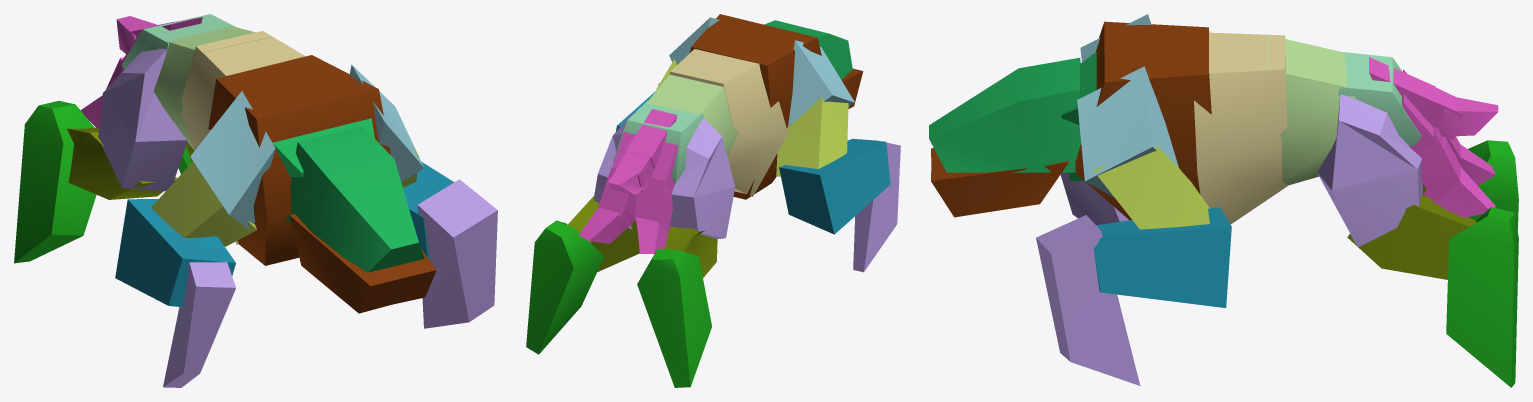
File: skulk_physics_damage.dae
The picture shows the model from 3 angles, left to right: view 1: azimuth 30°, elevation 25°; view 2: azimuth 150°, elevation 25°; view 3: azimuth 270°, elevation 25°; orthographic projection. The views are drawn at different scales.
Parts seen in each view (by area): view 1: Collision_Chest_PIVOT, Collision_Head_PIVOT, Collision_LHand01_PIVOT, Collision_RFoot_PIVOT, Collision_RThigh01_PIVOT, Collision_Spine_PIVOT (×2), Collision_RForearm_PIVOT, Collision_RClavicle_PIVOT, Collision_RHand_PIVOT, Collision_RMandible_PIVOT, Collision_RUpArm_PIVOT, Collision_RCalf_PIVOT (+6 smaller); view 2: Collision_Spine_PIVOT (×2), Collision_RFoot_PIVOT, Collision_RForearm_PIVOT, Collision_LFoot_PIVOT, Collision_Chest_PIVOT, Collision_RThigh01_PIVOT, Collision_RUpArm_PIVOT, Collision_RHand_PIVOT, Collision_RClavicle_PIVOT, Collision_Pelvis_PIVOT, Collision_LCalf_PIVOT, Collision_RTentMid_PIVOT (+13 smaller); view 3: Collision_Spine_PIVOT (×2), Collision_Head_PIVOT, Collision_Chest_PIVOT, Collision_LForearm01_PIVOT, Collision_LFoot_PIVOT, Collision_LThigh_PIVOT, Collision_LHand01_PIVOT, Collision_LClavicle01_PIVOT, Collision_LUpArm01_PIVOT, Collision_LCalf_PIVOT, Collision_LMandible_PIVOT, Collision_Pelvis_PIVOT (+10 smaller).
Part boxes in pixels (<box>): Collision_Chest_PIVOT: <box>208,55,390,265</box>; Collision_Head_PIVOT: <box>286,126,424,272</box>; Collision_LHand01_PIVOT: <box>417,179,497,328</box>; Collision_RFoot_PIVOT: <box>14,100,96,263</box>; Collision_RThigh01_PIVOT: <box>98,48,187,191</box>; Collision_Spine_PIVOT (×2): <box>154,26,305,244</box>; Collision_RForearm_PIVOT: <box>115,199,235,307</box>; Collision_RClavicle_PIVOT: <box>190,91,275,229</box>; Collision_RHand_PIVOT: <box>163,261,235,387</box>; Collision_RMandible_PIVOT: <box>289,214,403,313</box>; Collision_RUpArm_PIVOT: <box>151,161,256,246</box>; Collision_RCalf_PIVOT: <box>67,127,176,199</box>; Collision_Spine_PIVOT (×2): <box>646,49,788,196</box>; Collision_RFoot_PIVOT: <box>637,248,711,387</box>; Collision_RForearm_PIVOT: <box>779,138,890,234</box>; Collision_LFoot_PIVOT: <box>526,220,604,354</box>; Collision_Chest_PIVOT: <box>690,14,821,199</box>; Collision_RThigh01_PIVOT: <box>670,118,735,238</box>; Collision_RUpArm_PIVOT: <box>776,96,848,176</box>; Collision_RHand_PIVOT: <box>853,139,900,272</box>; Collision_RClavicle_PIVOT: <box>788,40,854,126</box>; Collision_Pelvis_PIVOT: <box>613,100,704,183</box>; Collision_LCalf_PIVOT: <box>567,196,639,271</box>; Collision_RTentMid_PIVOT: <box>634,177,673,233</box>; Collision_Spine_PIVOT (×2): <box>1194,32,1355,224</box>; Collision_Head_PIVOT: <box>929,57,1081,172</box>; Collision_Chest_PIVOT: <box>1075,21,1211,220</box>; Collision_LForearm01_PIVOT: <box>1093,207,1231,307</box>; Collision_LFoot_PIVOT: <box>1446,207,1518,387</box>; Collision_LThigh_PIVOT: <box>1317,94,1422,247</box>; Collision_LHand01_PIVOT: <box>1036,215,1140,385</box>; Collision_LClavicle01_PIVOT: <box>1077,66,1178,197</box>; Collision_LUpArm01_PIVOT: <box>1094,144,1209,229</box>; Collision_LCalf_PIVOT: <box>1347,195,1476,279</box>; Collision_LMandible_PIVOT: <box>931,161,1068,217</box>; Collision_Pelvis_PIVOT: <box>1338,51,1421,146</box>.
Size of the model in its own units: 43.83 by 71.12 by 40.06.
